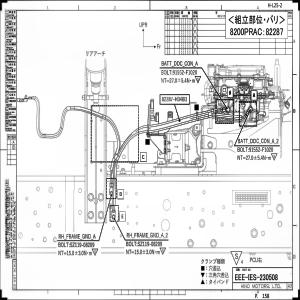PartNumber: (69, 241, 95, 248), (161, 96, 188, 102), (248, 147, 274, 153), (173, 69, 198, 75), (138, 241, 162, 247)
